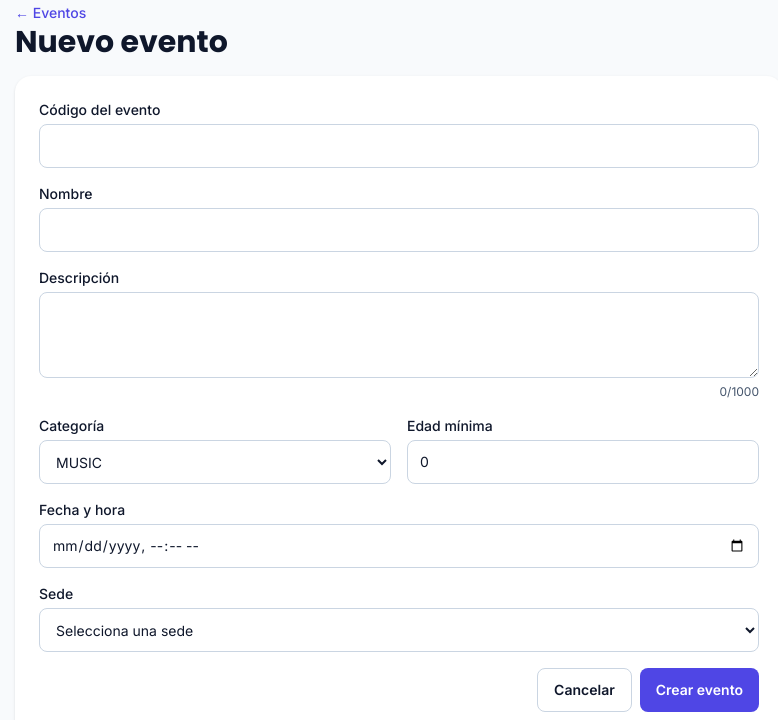
Scenario: crear evento › 409 → aviso con el mensaje del backend
In the field labelled "Código del evento": [399, 146] box [39,124,759,168], type "CMF-2026"
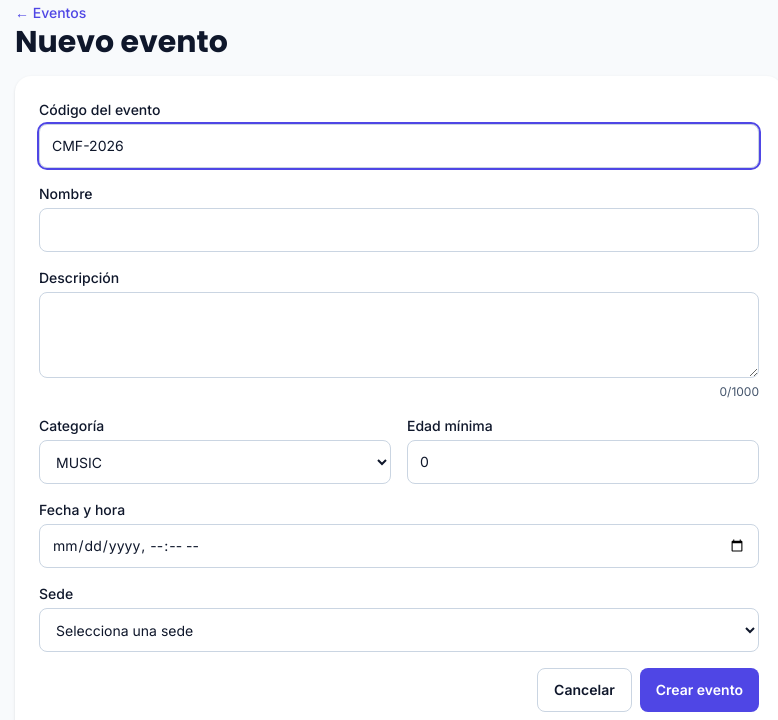
In the field labelled "Nombre": [399, 230] box [39,208,759,252], type "Caribbean Music Fest 2026"
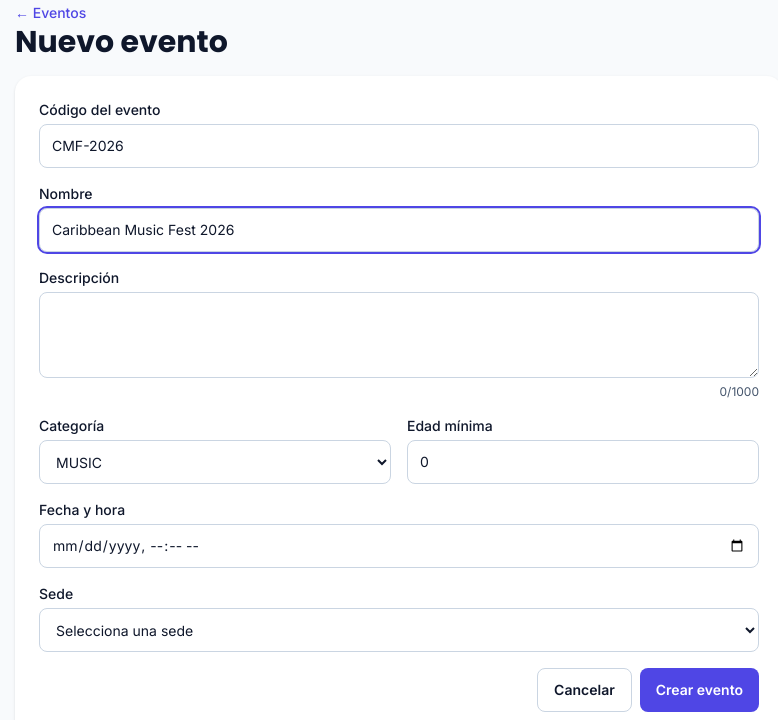
In the field labelled "Fecha y hora": [399, 546] box [39,524,759,568], type "2026-12-12T20:00"
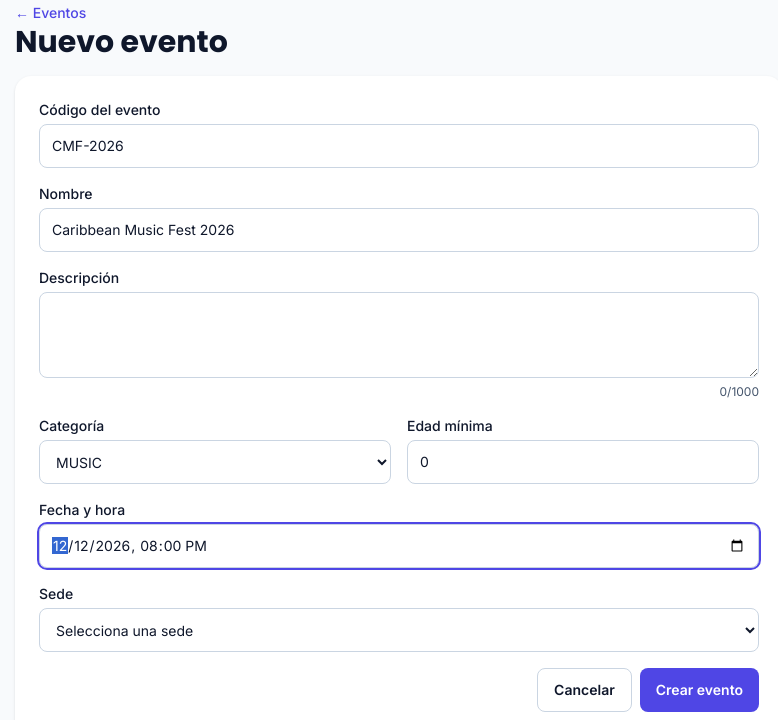
Select "Marina Convention Center (VEN-SMR-01)" in the dropdown labelled "Sede": [399, 630] box [39,608,759,652]
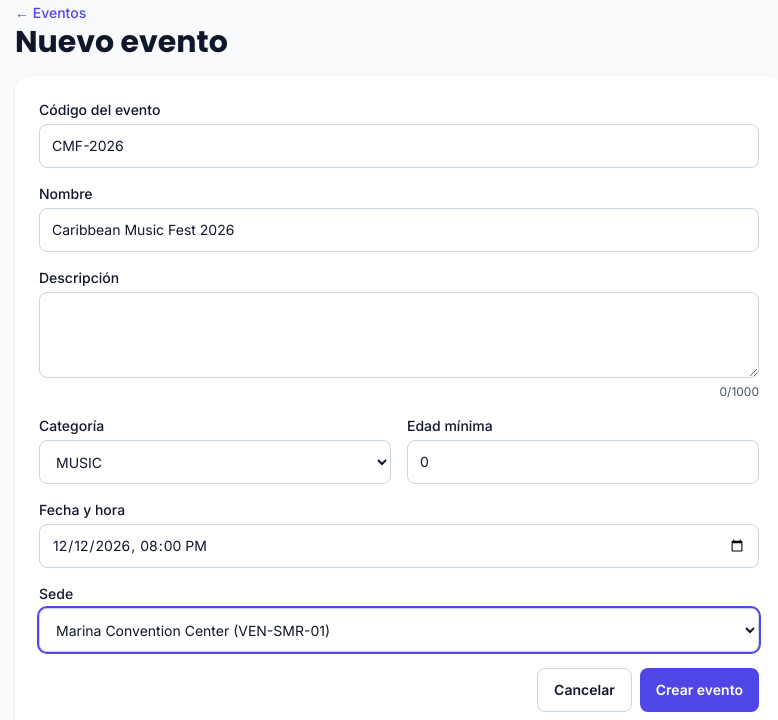
Click the button "Crear evento": [699, 690] box [640,668,759,712]
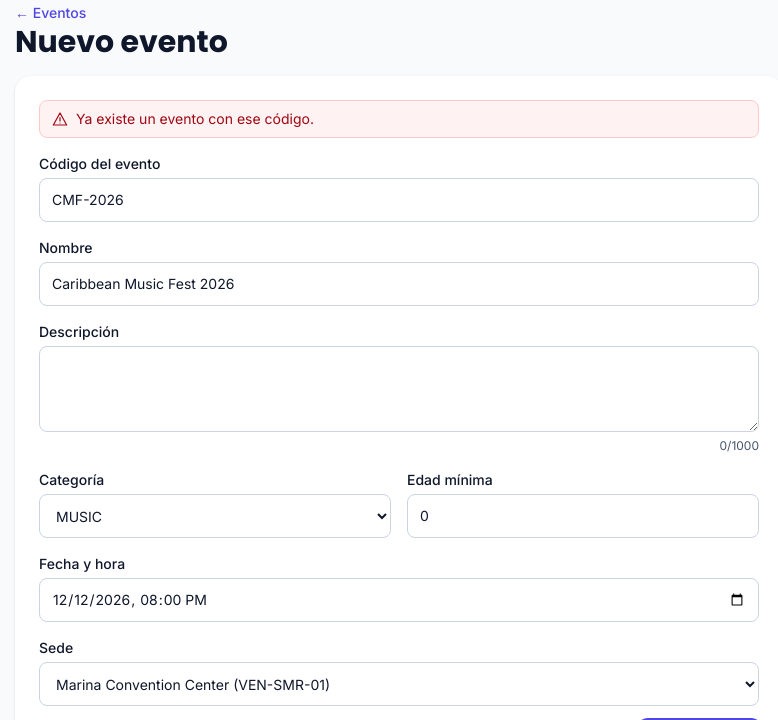
Result: the message reads "Ya existe un evento con ese código." at [76,110,314,127]
